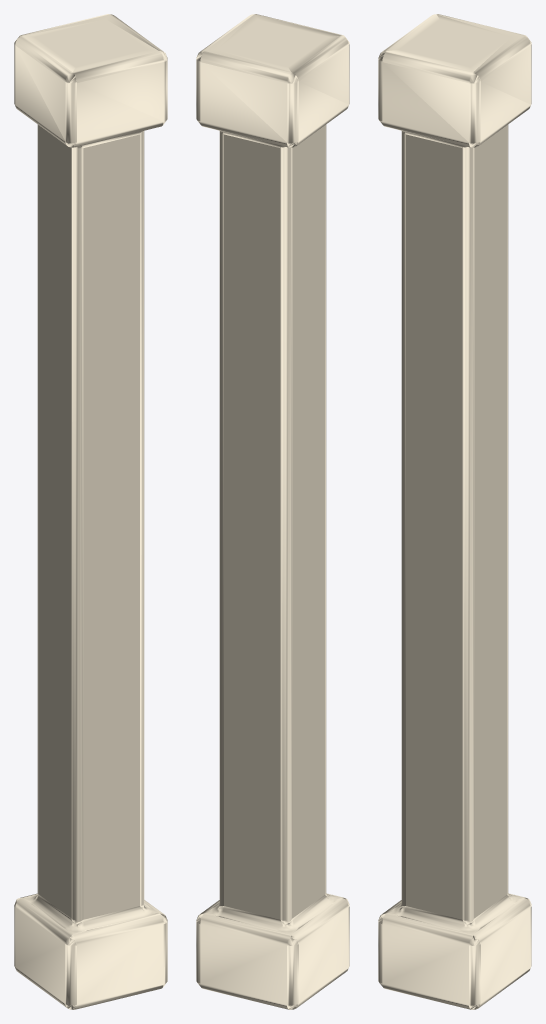
Rendered from Column.glb.
3 renders of one model, left to right at view 1: azimuth 30°, elevation 25°; view 2: azimuth 150°, elevation 25°; view 3: azimuth 330°, elevation 25°, orthographic.
Parts seen in each view (by area): view 1: PBK_shaft.003; view 2: PBK_shaft.003; view 3: PBK_shaft.003.
Boxes of the visible parts, x1,y1,x2,y2 form: PBK_shaft.003: (14,14,167,1009); PBK_shaft.003: (196,14,349,1009); PBK_shaft.003: (378,14,531,1009).
Size of the model in its own units: 0.34 by 3 by 0.34.
